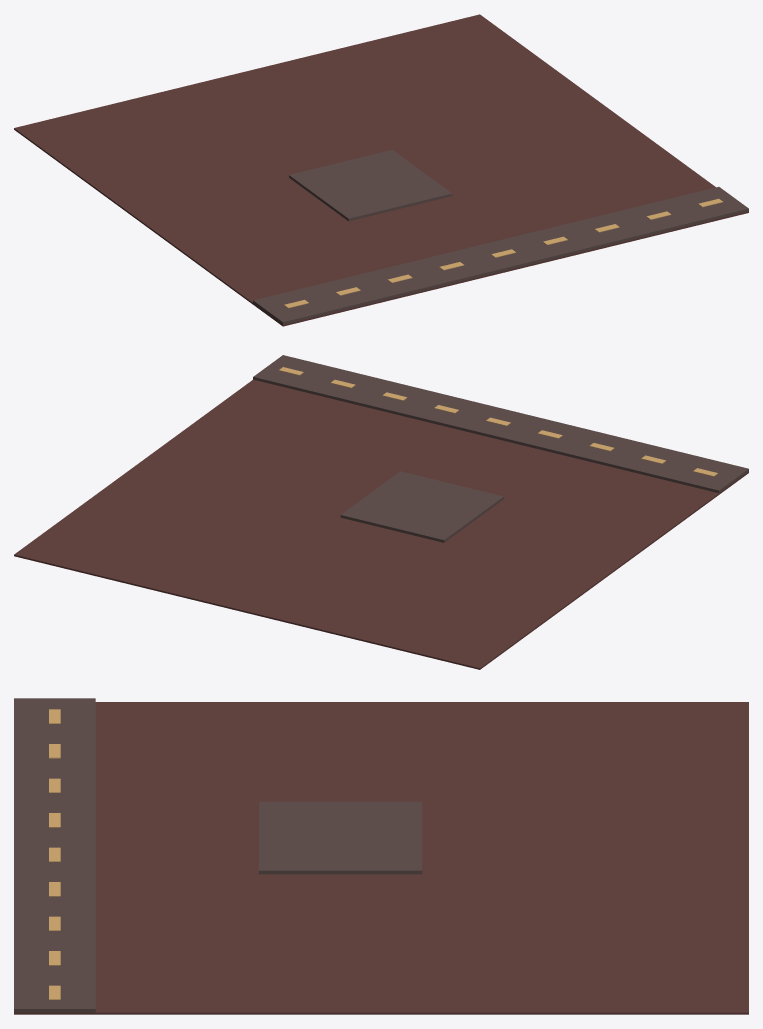
Rendered from stage_01.glb.
3 renders of one model, top to bottom at view 1: azimuth 30°, elevation 25°; view 2: azimuth 150°, elevation 25°; view 3: azimuth 270°, elevation 25°, orthographic. The views are drawn at different scales.
Visible parts, largest first — view 1: geometry_0; view 2: geometry_0; view 3: geometry_0.
Boxes of the visible parts, x1,y1,x2,y2 form: geometry_0: (14,14,748,326); geometry_0: (14,355,748,669); geometry_0: (14,698,748,1014).
Size of the model in its own units: 9 by 0.091 by 9.
